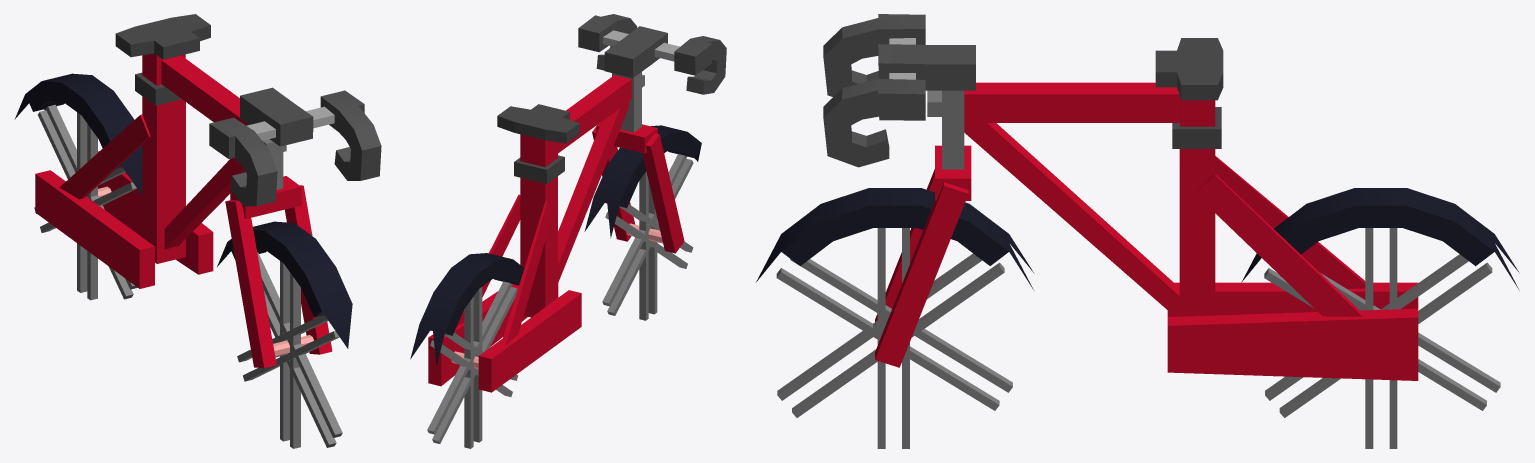
The model's file is body.glb.
The picture shows the model from 3 angles, left to right: view 1: azimuth 30°, elevation 25°; view 2: azimuth 150°, elevation 25°; view 3: azimuth 270°, elevation 25°; orthographic projection. The views are drawn at different scales.
Visible parts, largest first — view 1: Fork.003_Texture_0; view 2: Fork.003_Texture_0; view 3: Fork.003_Texture_0.
Boxes of the visible parts, x1,y1,x2,y2 form: Fork.003_Texture_0: (14,14,381,448); Fork.003_Texture_0: (410,14,726,448); Fork.003_Texture_0: (756,14,1519,448).
Size of the model in its own units: 2.52 by 5.81 by 10.24.
1 material, 1 textured.
